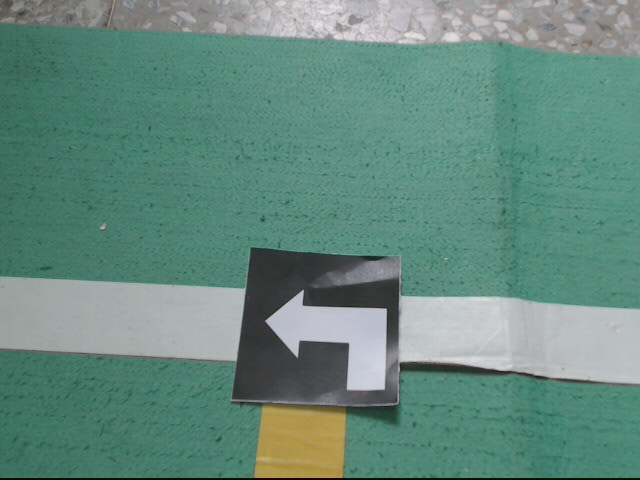left: (234, 245, 401, 406)
